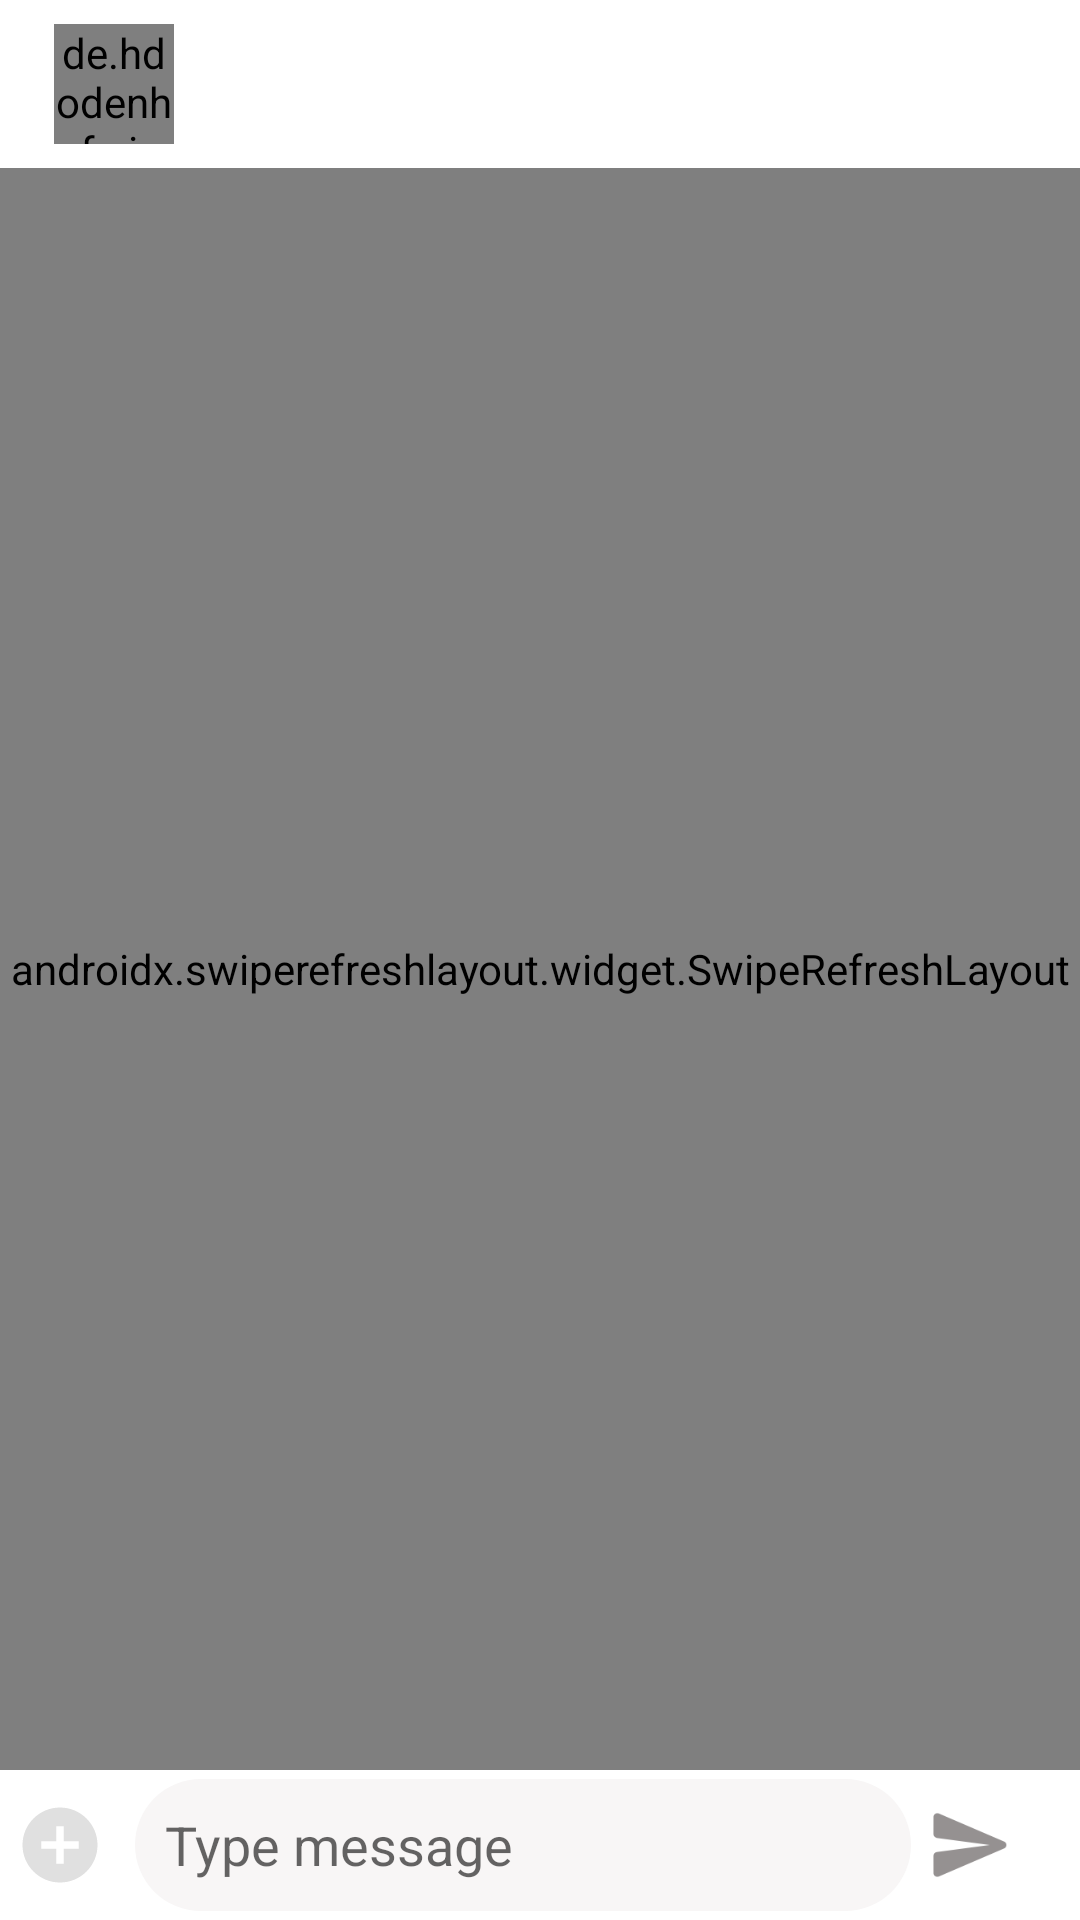

Where to tap for icons on this 1080px×1920px app screen, as (x=x, y=y):
add circle: (x=60, y=1845)
send: (x=970, y=1845)
